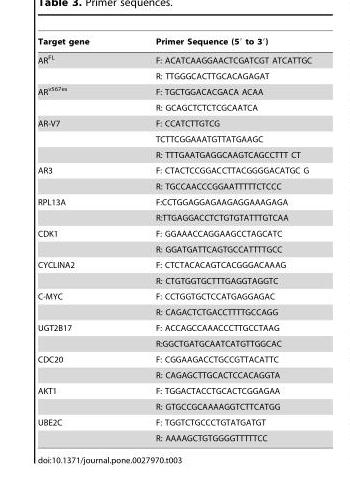table: (37, 36, 311, 442)
table column: (121, 36, 311, 442), (37, 36, 121, 442)
table column header: (37, 36, 311, 49)
table row: (37, 49, 311, 68), (37, 82, 311, 99), (37, 99, 311, 115), (37, 115, 311, 131), (37, 146, 311, 162), (37, 162, 311, 178), (37, 178, 311, 194), (37, 209, 311, 225), (37, 225, 311, 241), (37, 241, 311, 257), (37, 272, 311, 288), (37, 288, 311, 304), (37, 319, 311, 335), (37, 335, 311, 351), (37, 351, 311, 367), (37, 382, 311, 398), (37, 398, 311, 414), (37, 414, 311, 430), (37, 131, 311, 146), (37, 194, 311, 209), (37, 257, 311, 272), (37, 304, 311, 319), (37, 367, 311, 382), (37, 68, 311, 82), (37, 36, 311, 49), (37, 430, 311, 442)
table spanning cell: (37, 115, 121, 162), (37, 49, 121, 82), (37, 82, 121, 115), (37, 162, 121, 194), (37, 225, 121, 257), (37, 319, 121, 351), (37, 382, 121, 414), (37, 194, 121, 225), (37, 257, 121, 288), (37, 288, 121, 319), (37, 351, 121, 382), (37, 414, 121, 442)
